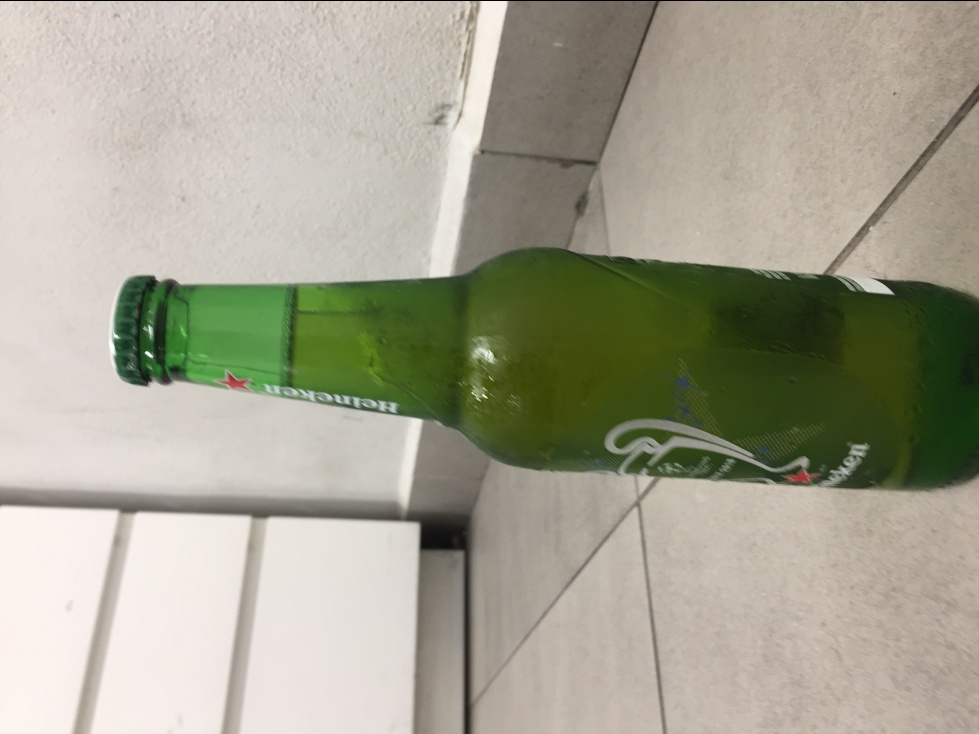heineken: (109, 245, 979, 493)
